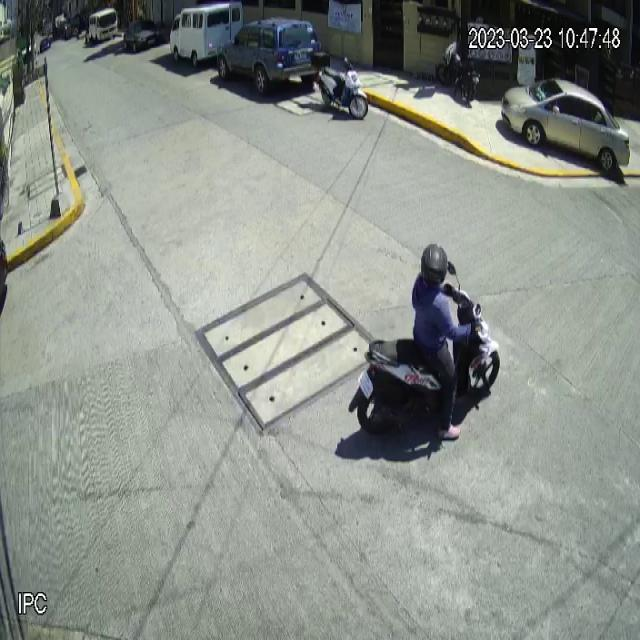Car: (500, 78, 630, 174), (218, 17, 324, 99)
Motorcycle: (346, 263, 503, 437), (312, 48, 369, 120)
Van: (170, 1, 245, 67)
